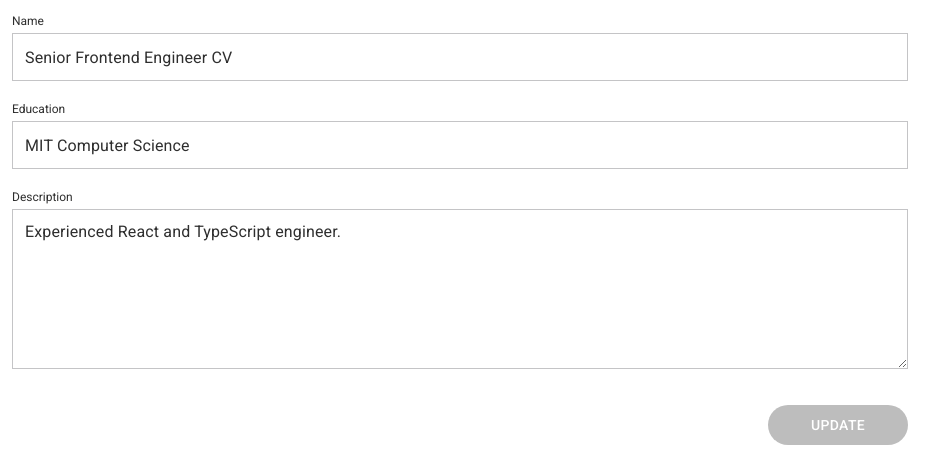
Test case: CVDetailsView Component › enables Update button when fields are changed
The width and height of the screenshot is (925, 462).
Replace the text in the field labelled "Name" with "Lead Engineer CV": (460, 57) [12,33,908,81]
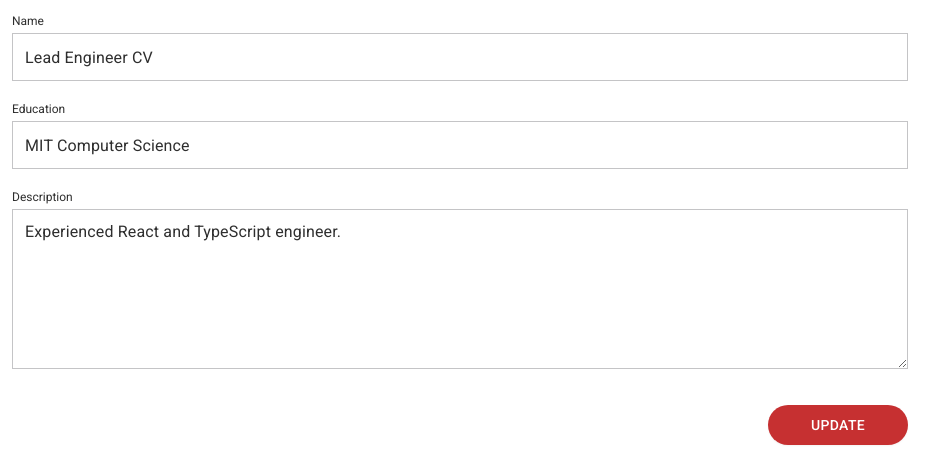
Now the button "Update" is enabled, box [768,405,908,445]
